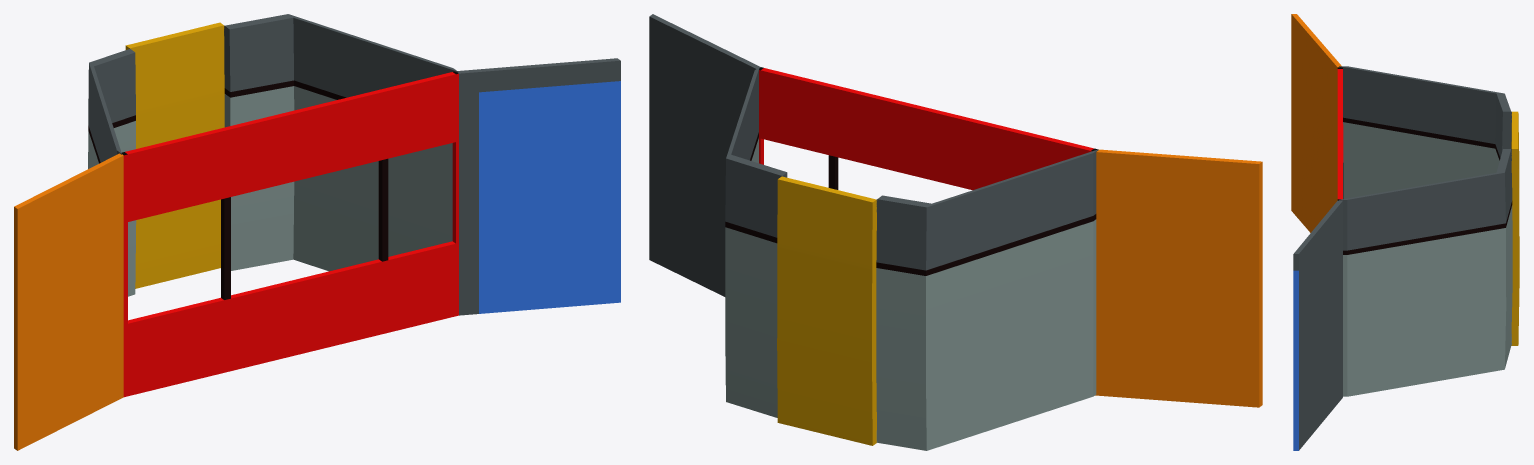
File: wallsBack.obj
3 views of the same model, side by side, from view 1: azimuth 30°, elevation 25°; view 2: azimuth 150°, elevation 25°; view 3: azimuth 270°, elevation 25° (orthographic). The views are drawn at different scales.
Visible parts, largest first — view 1: pasted__ventanas1 group1, pasted__trasera1 group; view 2: pasted__trasera1 group, pasted__ventanas1 group1; view 3: pasted__trasera1 group, pasted__ventanas1 group1.
Part boxes in pixels (x1,y1,x2,y2): pasted__ventanas1 group1: (14,58,620,450); pasted__trasera1 group: (88,14,458,296); pasted__trasera1 group: (725,67,1098,450); pasted__ventanas1 group1: (649,14,1262,407); pasted__trasera1 group: (1339,66,1519,396); pasted__ventanas1 group1: (1291,14,1343,450).
Size of the model in its own units: 17.99 by 6.91 by 7.22.
Materials: 10 (9 with a texture image).
